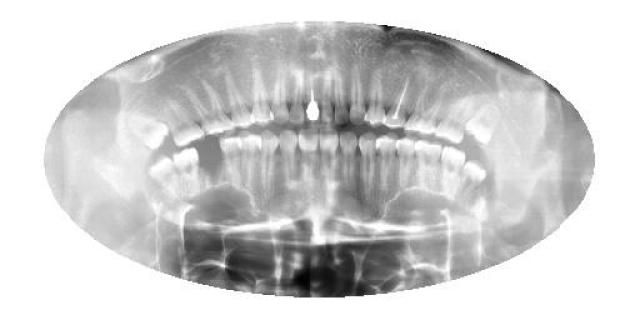Implant: (382, 70, 412, 128), (304, 78, 321, 122)
Restorations: (126, 106, 170, 152)
